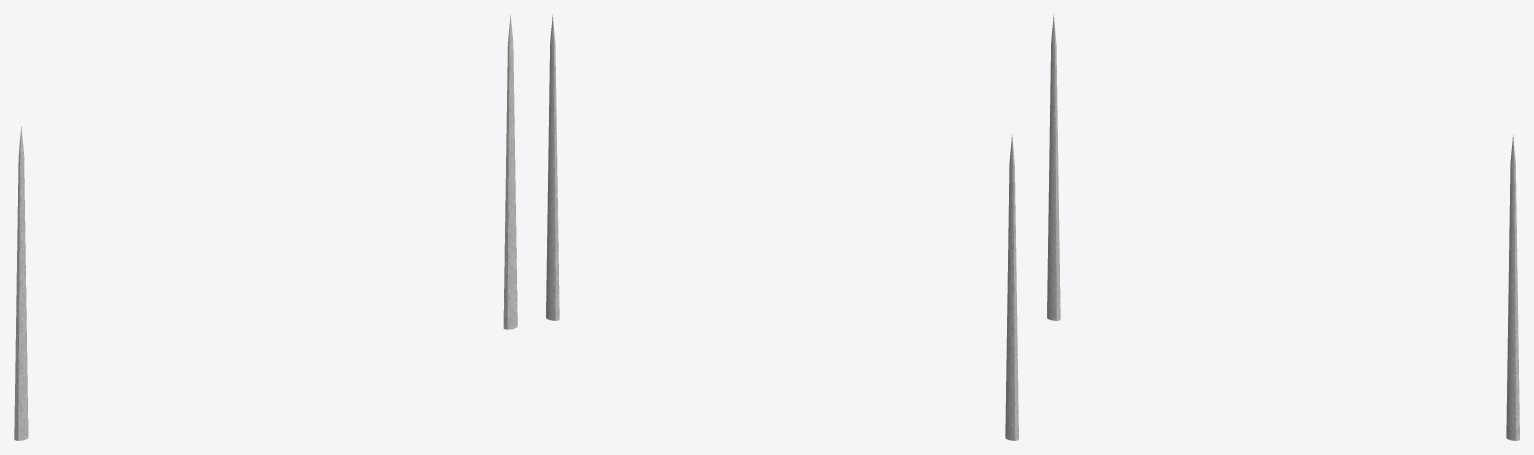
File: SM_Ponte_Antenne_LOD2.fbx
3 renders of one model, left to right at view 1: azimuth 30°, elevation 25°; view 2: azimuth 150°, elevation 25°; view 3: azimuth 330°, elevation 25°, orthographic. The views are drawn at different scales.
Parts seen in each view (by area): view 1: SM_Ponte_Antenne_LOD2; view 2: SM_Ponte_Antenne_LOD2; view 3: SM_Ponte_Antenne_LOD2.
Boxes of the visible parts, x1=… form: SM_Ponte_Antenne_LOD2: x1=14, y1=15, x2=517, y2=440; SM_Ponte_Antenne_LOD2: x1=546, y1=14, x2=1018, y2=440; SM_Ponte_Antenne_LOD2: x1=1047, y1=14, x2=1519, y2=440.
Size of the model in its own units: 4960 by 235 by 3000.
Materials: 1 (1 with a texture image).
